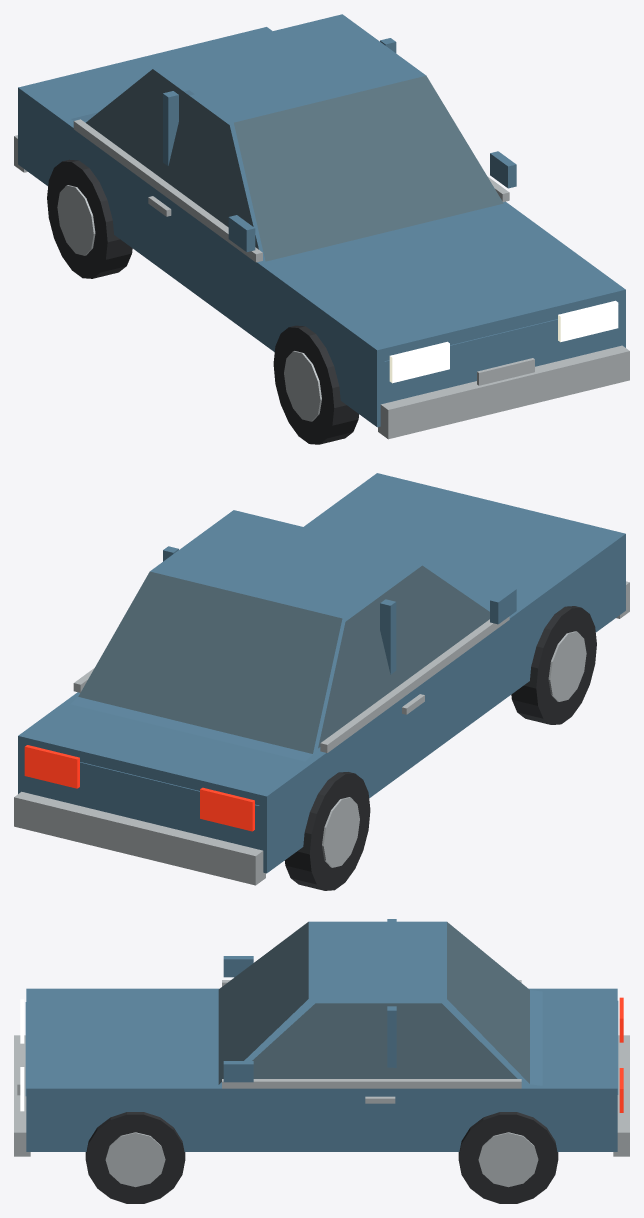
The model's file is sedan.glb.
3 views of the same model, one above another, from view 1: azimuth 30°, elevation 25°; view 2: azimuth 150°, elevation 25°; view 3: azimuth 270°, elevation 25° (orthographic). The views are drawn at different scales.
Parts seen in each view (by area): view 1: Original parked sedan; view 2: Original parked sedan; view 3: Original parked sedan.
Part boxes in pixels (x1=…): Original parked sedan: x1=14, y1=14, x2=629, y2=444; Original parked sedan: x1=14, y1=473, x2=629, y2=890; Original parked sedan: x1=14, y1=919, x2=629, y2=1203.
Bounding box in the file's own units: 1.54 × 1.27 × 3.7.
